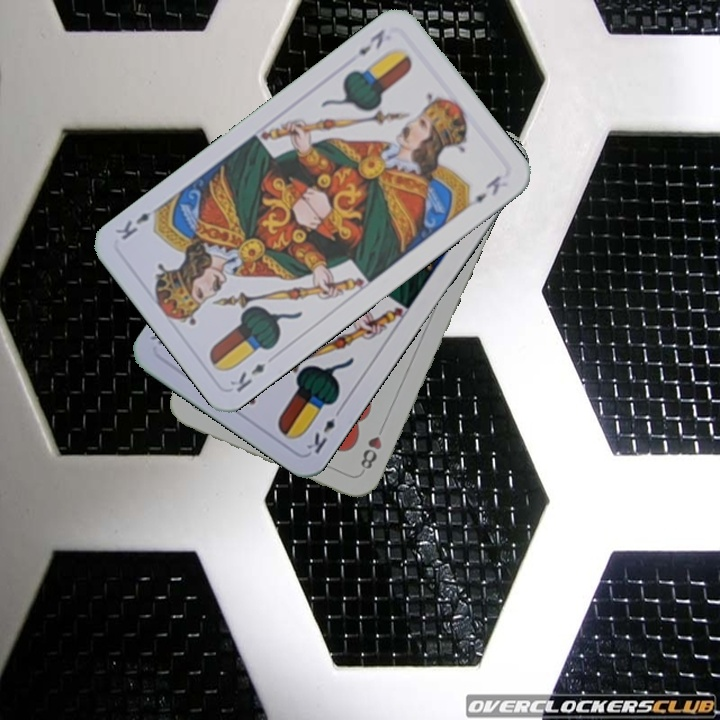EK: (302, 403, 346, 457), (225, 359, 268, 395), (353, 25, 388, 58)
H8: (356, 419, 388, 472)
